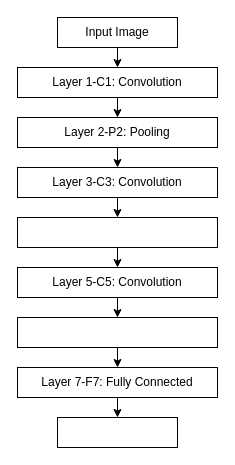
Some shapes in this 235 by 465 pixel diagram are drawn without their labels. The centre of each missing label's shape, as x and y in pixels:
Layer 4-P4: Pooling: the point at 117,232
Layer 6-F6: Fully Connected: the point at 117,332
Output: the point at 117,432
